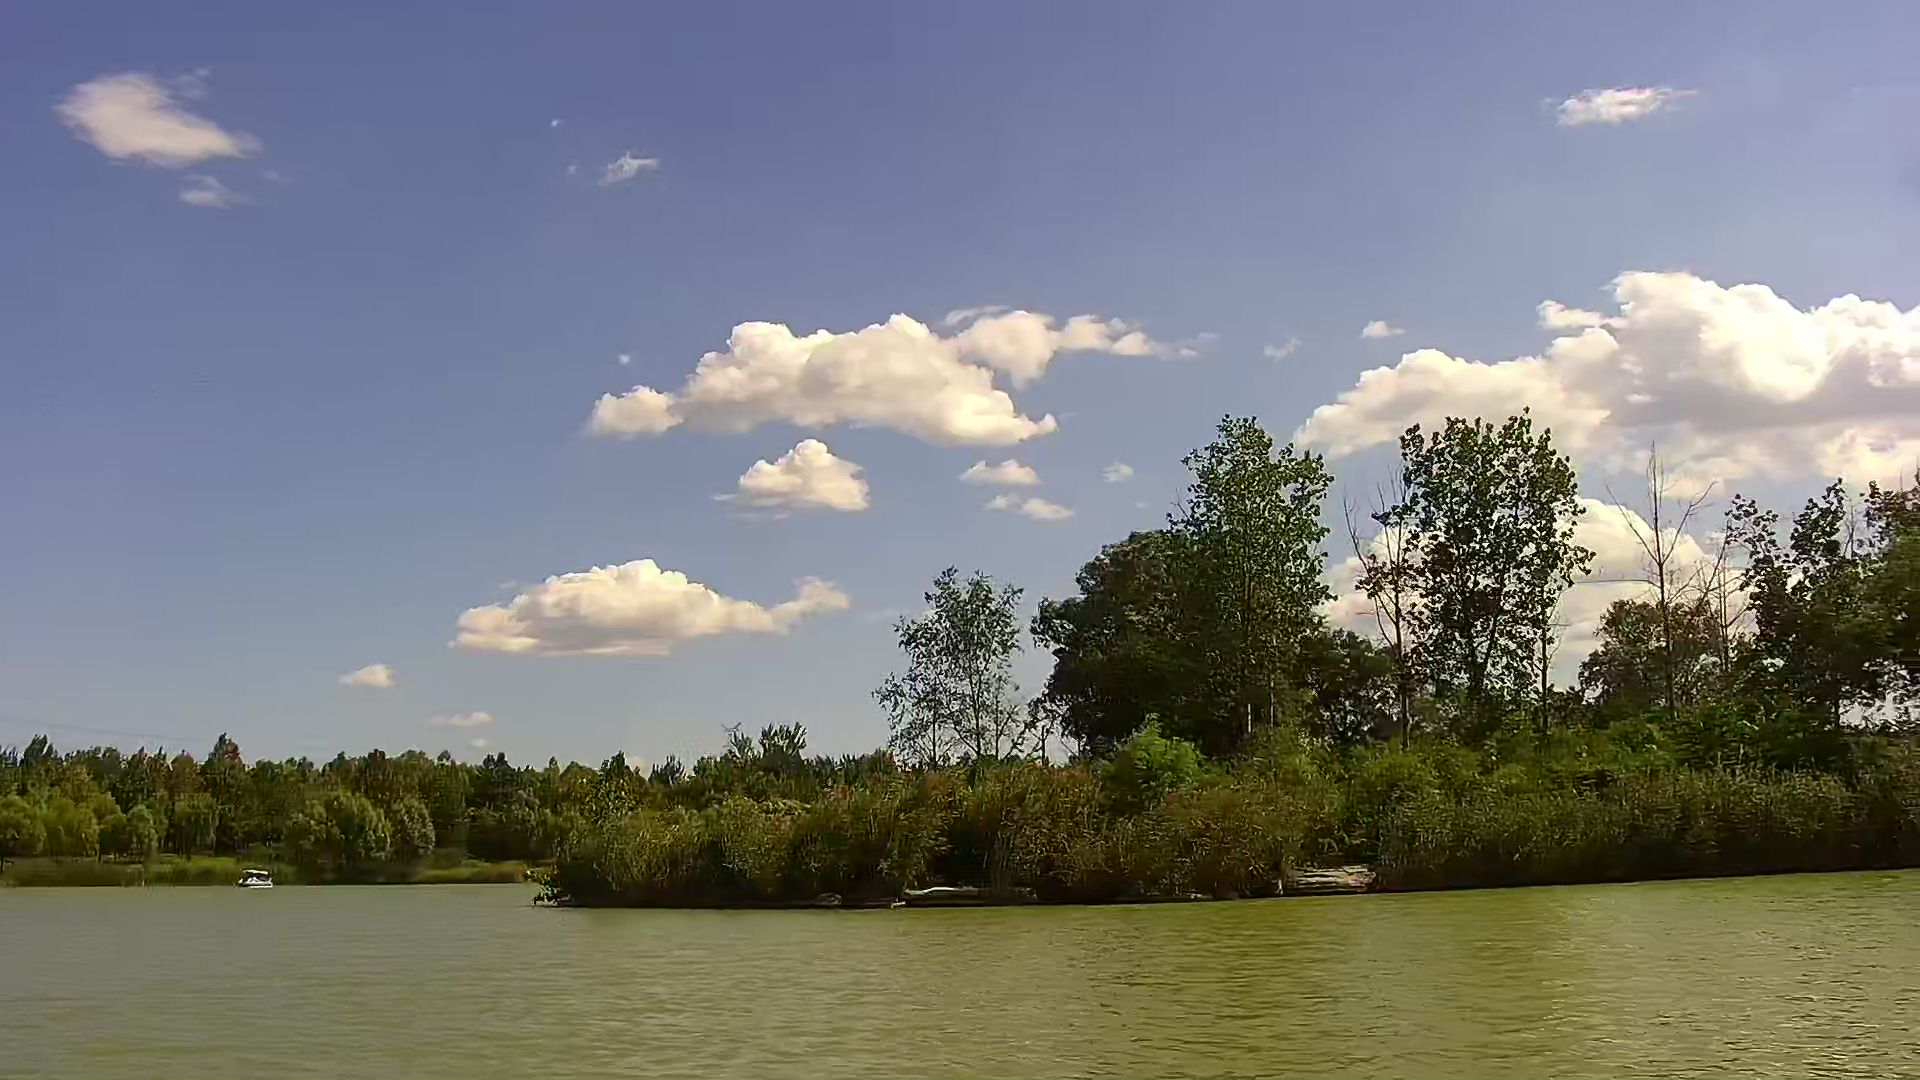boat: (231, 870, 276, 889)
